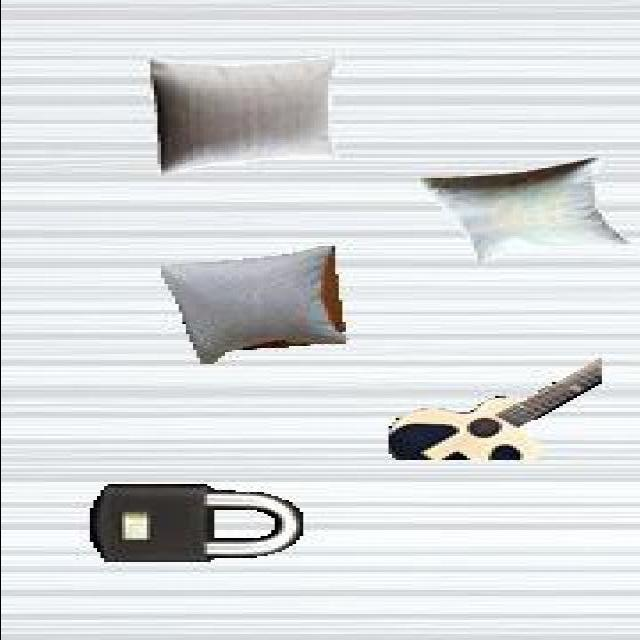Other Objects: (416, 156, 632, 266), (148, 56, 338, 177), (158, 246, 349, 365), (90, 484, 306, 563)
